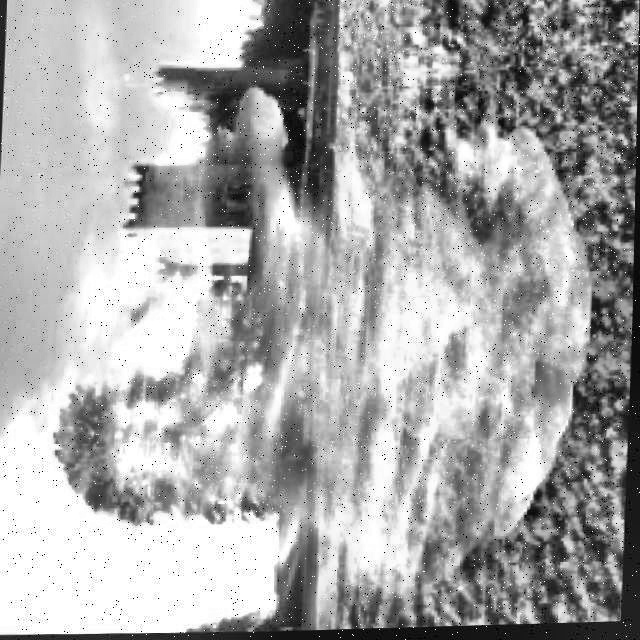Smoke: (40, 84, 599, 634)
